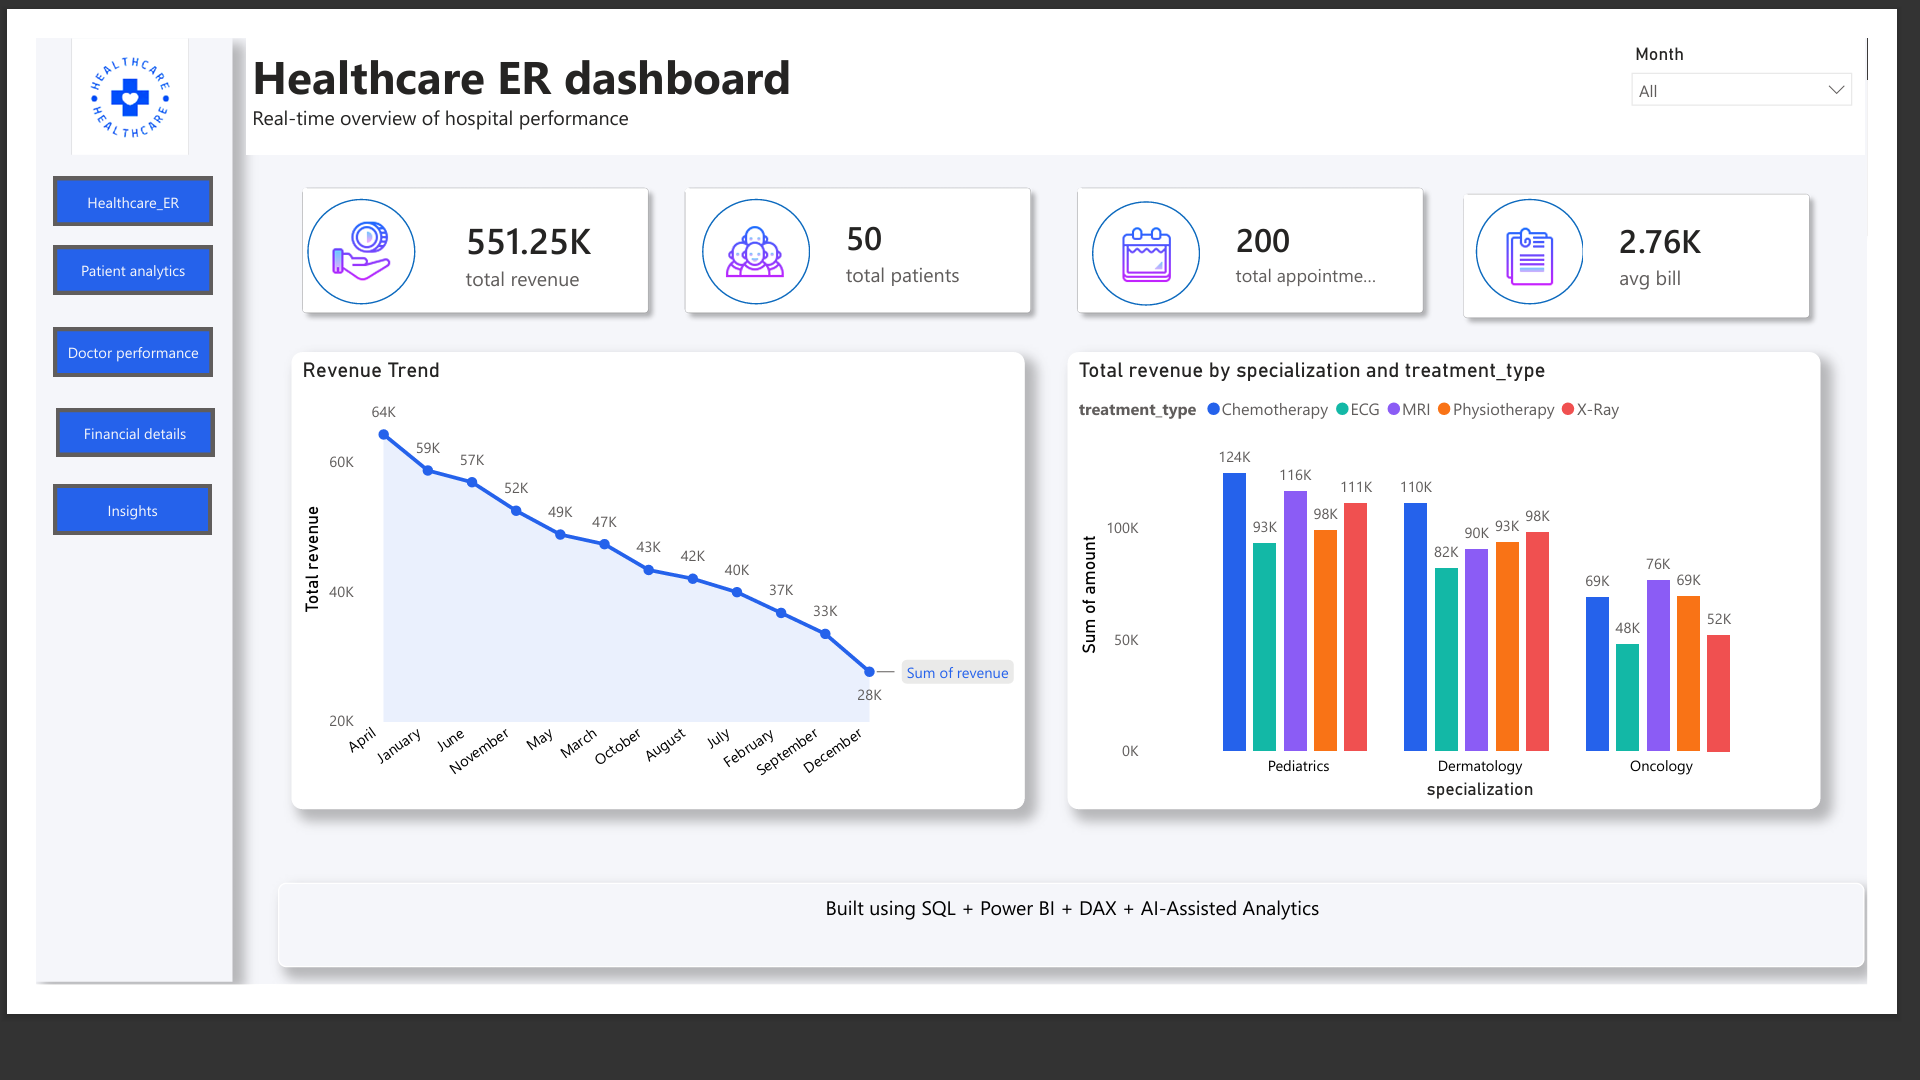

Layout of this report page (visuals, bound fields, positions):
{"tool":"powerbi","page":{"name":"Healthcare_ER dashboard","canvas":[1493,772],"ordinal":0},"visuals":[{"type":"shape","title":"Healthcare analytics","box":[0,0,159.8,770.4],"z":0},{"type":"actionButton","title":"Executive dashboard","box":[14.5,113.4,129.1,39.8],"z":1000},{"type":"image","box":[8.4,0,136.3,95.3],"z":2000},{"type":"actionButton","box":[14.5,168.9,129.1,39.8],"z":3000},{"type":"actionButton","box":[14.5,236.5,129.1,39.8],"z":4000},{"type":"actionButton","box":[15.7,301.6,129.1,39.8],"z":5000},{"type":"textbox","box":[170.7,0,1320.6,94.8],"z":6000},{"type":"slicer","fields":{"Values":["monthly_rev.month_name"]},"box":[1290.8,0,200.5,63.7],"z":7000},{"type":"shape","box":[207.5,113.4,300.4,119.4],"z":8000},{"type":"shape","box":[520,113.4,300.4,119.4],"z":9000},{"type":"shape","box":[839.7,113.4,300.4,119.4],"z":10000},{"type":"shape","box":[1155.4,117.8,299.3,119.2],"z":11000},{"type":"shape","box":[220.8,131.4,88,85.3],"z":12000},{"type":"shape","box":[543.1,131.4,88,85.3],"z":13000},{"type":"shape","box":[861.4,132.7,88,85.3],"z":14000},{"type":"shape","box":[1174.3,131.4,88,85.3],"z":15000},{"type":"image","box":[235.7,140.9,58.2,65],"z":16000},{"type":"image","box":[1189.2,144.9,58.2,65],"z":17000},{"type":"image","box":[556.7,140.9,58.2,65],"z":18000},{"type":"cardVisual","fields":{"Data":["billing.total revenue"]},"box":[319.7,127.3,174.7,92.1],"z":19000},{"type":"cardVisual","fields":{"Data":["patients.total patients"]},"box":[631.2,128.7,174.7,90.7],"z":20000},{"type":"cardVisual","fields":{"Data":["billing.total revenue"]},"box":[321,128.7,174.7,92.1],"z":21000},{"type":"cardVisual","fields":{"Data":["appointments.total appointments"]},"box":[949.5,127.3,178.8,94.8],"z":22000},{"type":"cardVisual","fields":{"Data":["billing.avg bill"]},"box":[1262.4,130,174.7,92.1],"z":23000},{"type":"lineChart","title":"Revenue Trend","fields":{"Category":["monthly_rev.month_name"],"Y":["Sum(monthly_rev.revenue)"]},"box":[207.5,256.3,598.1,373],"z":24000},{"type":"clusteredColumnChart","title":"Total revenue by specialization and treatment_type","fields":{"Category":["doctors.specialization"],"Series":["treatments.treatment_type"],"Y":["Sum(billing.amount)"]},"box":[840.9,256.3,614.4,373],"z":25000},{"type":"textbox","box":[197.4,689.5,1293.4,68.4],"z":26000},{"type":"image","box":[877.5,145.1,55.6,62.4],"z":27000},{"type":"actionButton","box":[14.5,364.4,128.7,40.5],"z":28000}]}

Visuals, with their boxes on the page's 1493x772 design canvas (x1, y1, x2, y2). These are canvas units, not pixel positions in the 1920x1080 screenshot, which may show the page scaled, cropped or inside an application window:
"Healthcare analytics" shape: <bbox>0, 0, 160, 770</bbox>
"Executive dashboard" actionButton: <bbox>14, 113, 144, 153</bbox>
image: <bbox>8, 0, 145, 95</bbox>
actionButton: <bbox>14, 169, 144, 209</bbox>
actionButton: <bbox>14, 236, 144, 276</bbox>
actionButton: <bbox>16, 302, 145, 341</bbox>
textbox: <bbox>171, 0, 1491, 95</bbox>
slicer - monthly_rev.month_name: <bbox>1291, 0, 1491, 64</bbox>
shape: <bbox>208, 113, 508, 233</bbox>
shape: <bbox>520, 113, 820, 233</bbox>
shape: <bbox>840, 113, 1140, 233</bbox>
shape: <bbox>1155, 118, 1455, 237</bbox>
shape: <bbox>221, 131, 309, 217</bbox>
shape: <bbox>543, 131, 631, 217</bbox>
shape: <bbox>861, 133, 949, 218</bbox>
shape: <bbox>1174, 131, 1262, 217</bbox>
image: <bbox>236, 141, 294, 206</bbox>
image: <bbox>1189, 145, 1247, 210</bbox>
image: <bbox>557, 141, 615, 206</bbox>
cardVisual - billing.total revenue: <bbox>320, 127, 494, 219</bbox>
cardVisual - patients.total patients: <bbox>631, 129, 806, 219</bbox>
cardVisual - billing.total revenue: <bbox>321, 129, 496, 221</bbox>
cardVisual - appointments.total appointments: <bbox>950, 127, 1128, 222</bbox>
cardVisual - billing.avg bill: <bbox>1262, 130, 1437, 222</bbox>
"Revenue Trend" lineChart: <bbox>208, 256, 806, 629</bbox>
"Total revenue by specialization and treatment_type" clusteredColumnChart: <bbox>841, 256, 1455, 629</bbox>
textbox: <bbox>197, 690, 1491, 758</bbox>
image: <bbox>878, 145, 933, 208</bbox>
actionButton: <bbox>14, 364, 143, 405</bbox>
